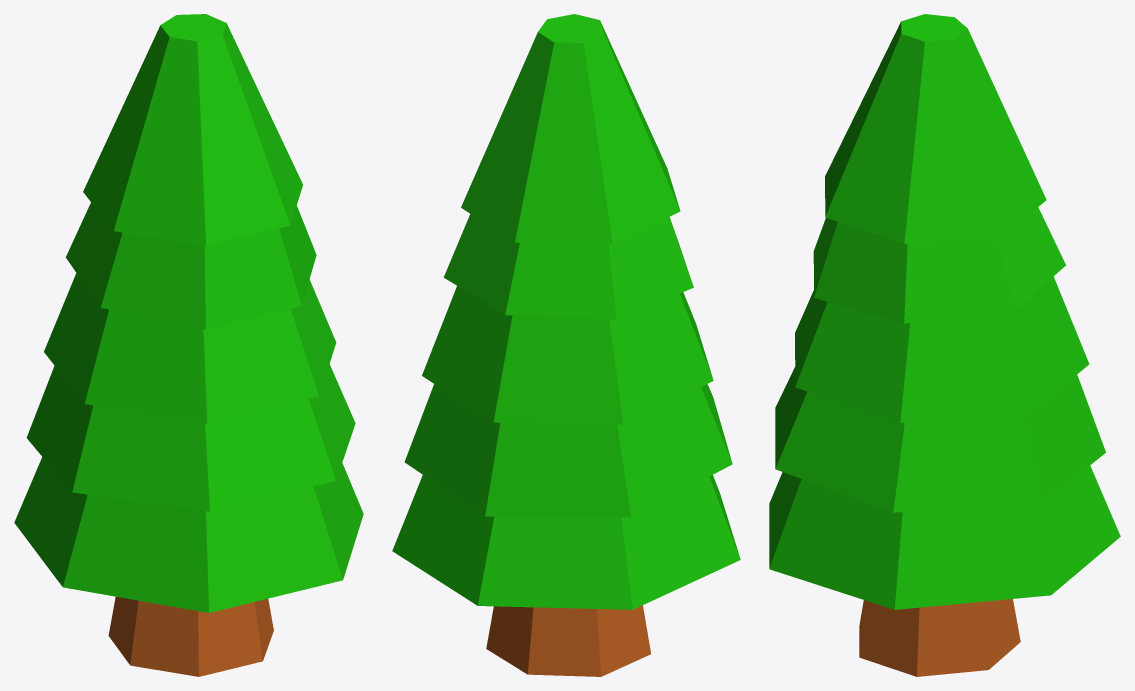
The model's file is ctree4C(F68).obj.
3 views of the same model, side by side, from view 1: azimuth 30°, elevation 25°; view 2: azimuth 150°, elevation 25°; view 3: azimuth 270°, elevation 25° (orthographic).
Visible parts, largest first — view 1: Cylinder.141, Cylinder.137, Cylinder.138, Cylinder.139, Cylinder.140, Cylinder.136; view 2: Cylinder.141, Cylinder.137, Cylinder.138, Cylinder.139, Cylinder.140, Cylinder.136; view 3: Cylinder.141, Cylinder.137, Cylinder.138, Cylinder.139, Cylinder.140, Cylinder.136.
Boxes of the visible parts, x1,y1,x2,y2 form: Cylinder.141: (83, 14, 302, 245); Cylinder.137: (14, 457, 363, 612); Cylinder.138: (26, 364, 355, 511); Cylinder.139: (44, 273, 336, 423); Cylinder.140: (65, 202, 316, 329); Cylinder.136: (108, 596, 273, 676); Cylinder.141: (461, 14, 680, 244); Cylinder.137: (392, 475, 740, 609); Cylinder.138: (404, 384, 732, 517); Cylinder.139: (422, 286, 713, 424); Cylinder.140: (443, 214, 693, 319); Cylinder.136: (486, 605, 650, 676); Cylinder.141: (825, 14, 1046, 244); Cylinder.137: (769, 465, 1120, 609); Cylinder.138: (775, 367, 1105, 512); Cylinder.139: (795, 276, 1089, 422); Cylinder.140: (813, 207, 1065, 323); Cylinder.136: (859, 599, 1020, 676).
Size of the model in its own units: 1.07 by 2.1 by 1.09.
